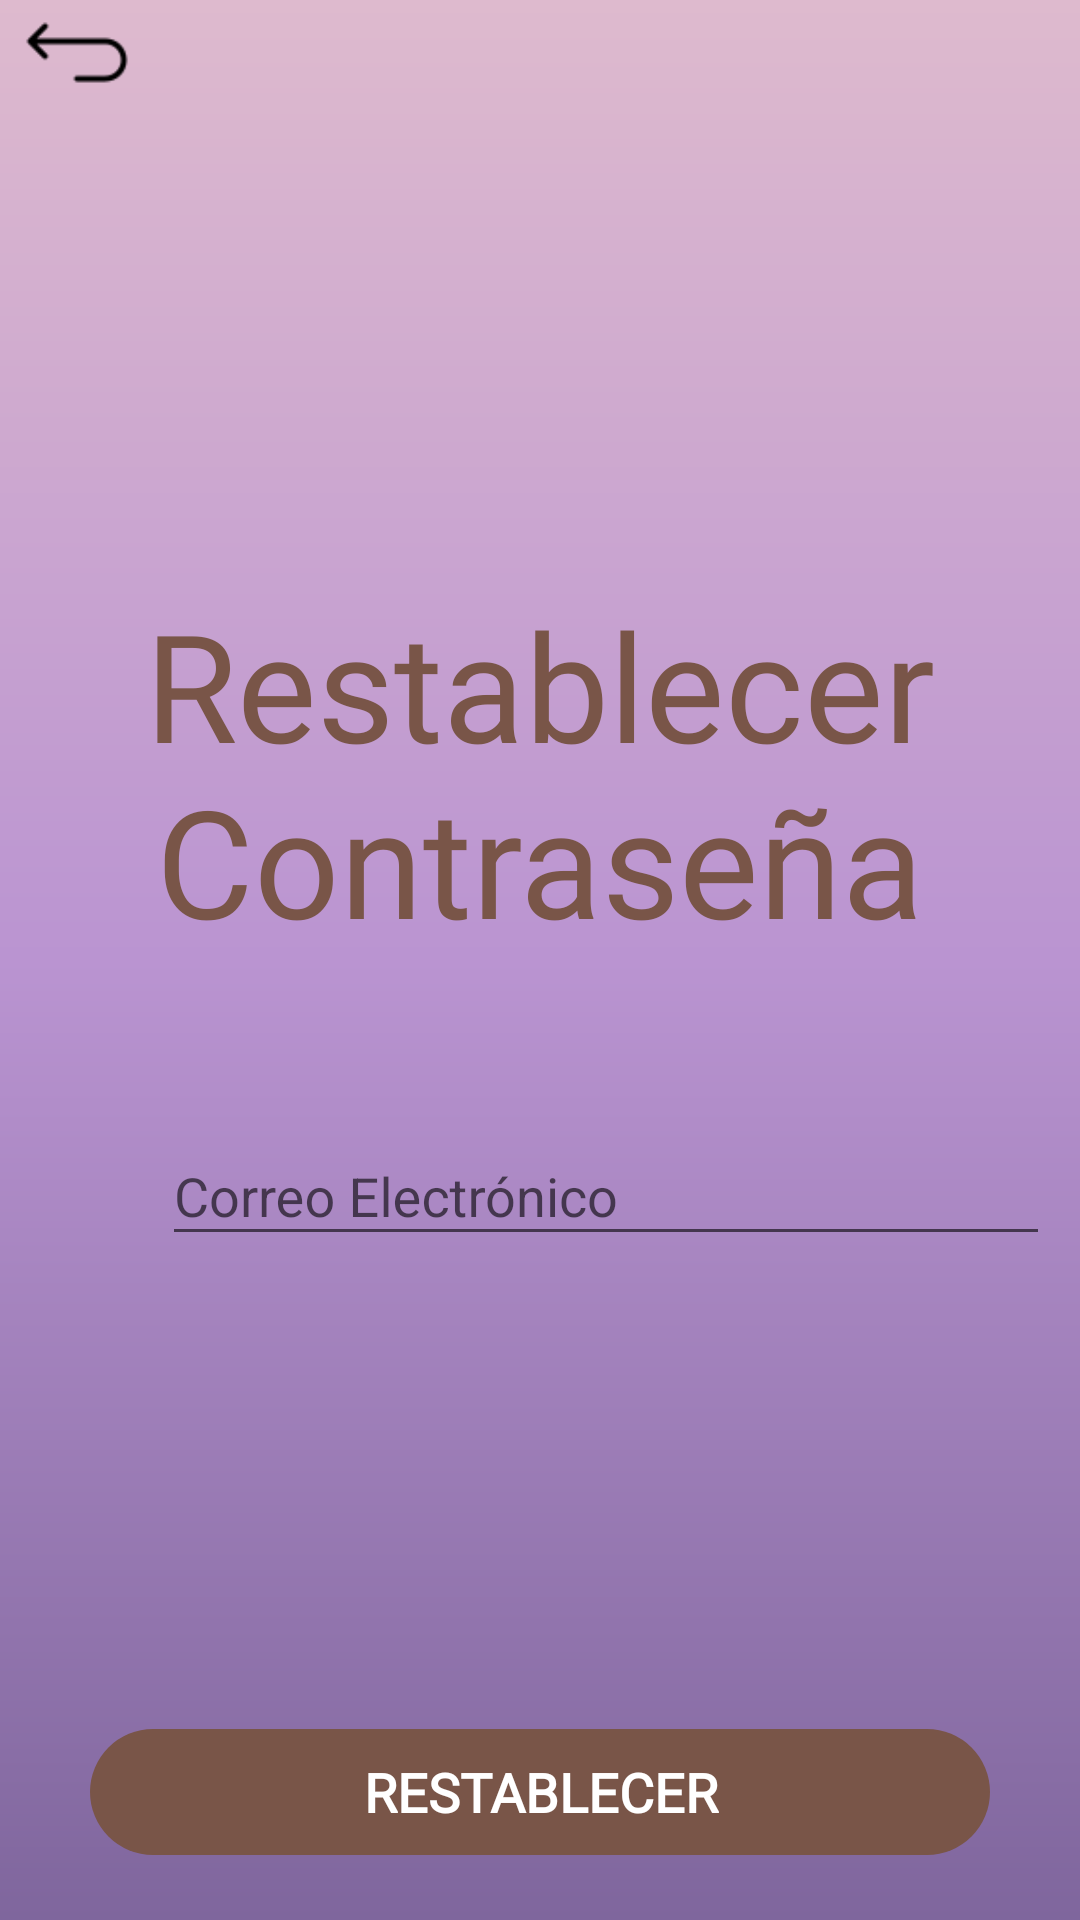

Icon bounding boxes for this 1080px×1920px phone screenshot, format (x1, y1, x2, y2):
iconreturn: (26, 22, 128, 83)
